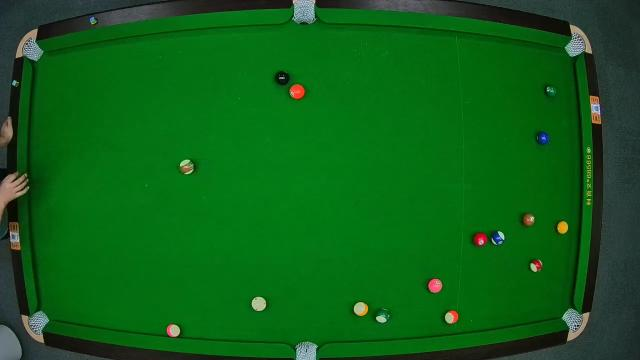bag1: (24, 40, 40, 62)
bag2: (292, 2, 316, 22)
bag3: (566, 34, 584, 56)
bag4: (27, 310, 49, 336)
bag5: (295, 342, 319, 360)
bag6: (562, 308, 584, 332)
ball0: (250, 296, 266, 312)
ball1: (554, 219, 570, 236)
ball10: (492, 229, 506, 247)
ball11: (528, 257, 544, 273)
ball12: (165, 323, 181, 337)
ball13: (444, 309, 460, 325)
ball14: (373, 308, 391, 324)
ball15: (179, 160, 195, 176)
ball2: (536, 130, 550, 146)
ball3: (472, 231, 486, 246)
ball4: (426, 277, 446, 293)
ball5: (288, 84, 306, 100)
ball6: (544, 82, 560, 98)
ball7: (518, 212, 536, 228)
ball8: (274, 71, 290, 85)
ball9: (352, 301, 370, 317)
